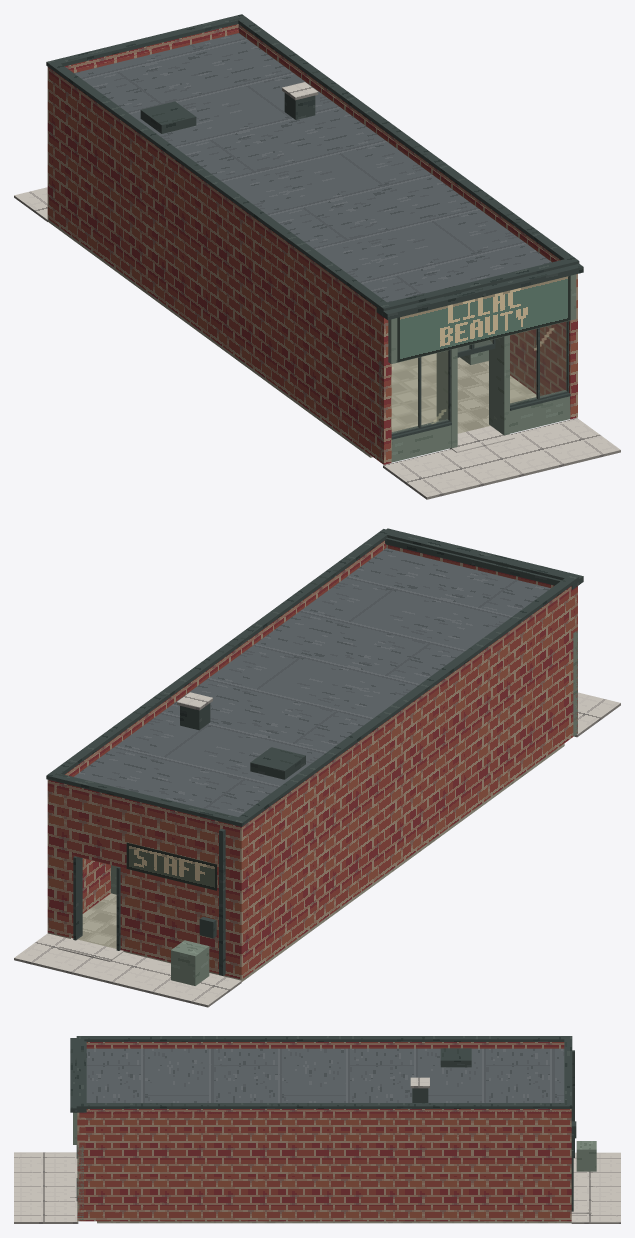
Rendered from salon-1940-mid.glb.
3 views of the same model, one above another, from view 1: azimuth 30°, elevation 25°; view 2: azimuth 150°, elevation 25°; view 3: azimuth 270°, elevation 25° (orthographic). The views are drawn at different scales.
Parts seen in each view (by area): view 1: shell, lot, sign_name, fixed_interior; view 2: shell, lot, fixed_interior, sign_staff; view 3: shell, lot, fixed_interior.
Boxes of the visible parts, <box> form: shell: <box>46,14,583,464</box>; lot: <box>14,187,620,499</box>; sign_name: <box>397,275,570,362</box>; fixed_interior: <box>47,219,536,457</box>; shell: <box>46,528,583,979</box>; lot: <box>14,692,620,1007</box>; fixed_interior: <box>47,743,564,981</box>; sign_staff: <box>126,842,216,890</box>; shell: <box>70,1036,591,1221</box>; lot: <box>14,1141,620,1223</box>; fixed_interior: <box>97,1221,571,1223</box>.
Size of what is drawn, in the model's own units: 6.05 by 5.06 by 22.1.
Materials: 9 (9 with a texture image).
